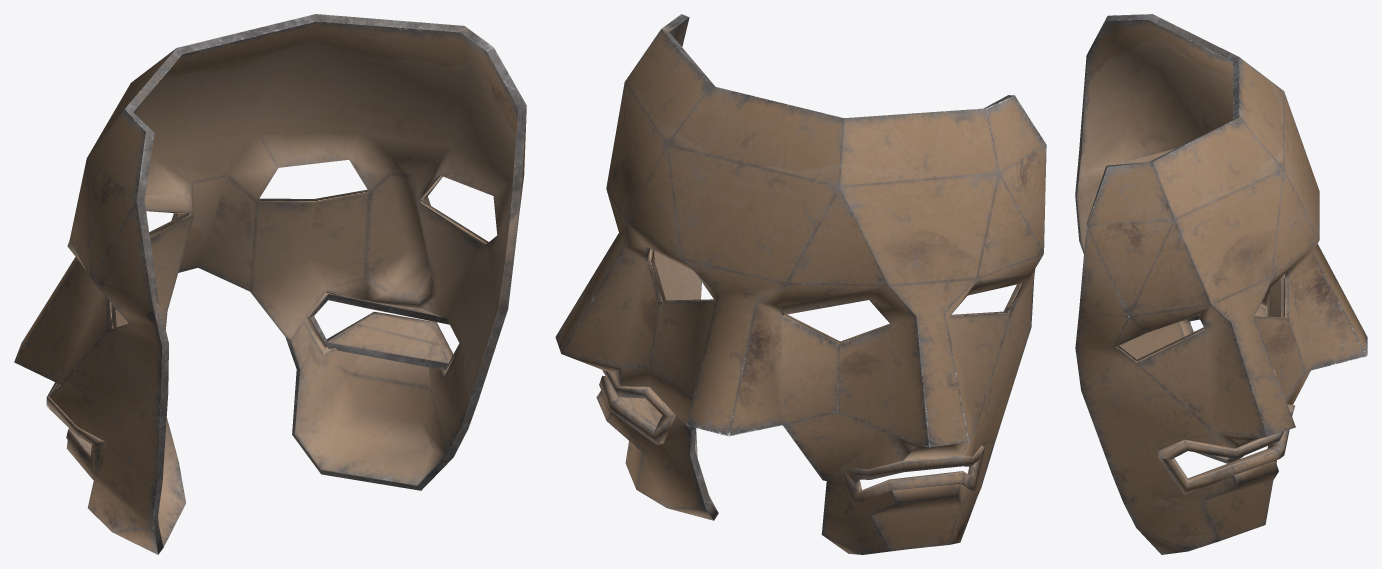
The model's file is threeFaceMask.gltf.
The picture shows the model from 3 angles, left to right: view 1: azimuth 30°, elevation 25°; view 2: azimuth 150°, elevation 25°; view 3: azimuth 270°, elevation 25°; orthographic projection. The views are drawn at different scales.
Visible parts, largest first — view 1: threeFaceMask; view 2: threeFaceMask; view 3: threeFaceMask.
Boxes of the visible parts, left/top/right/bottom form: threeFaceMask: left=14, top=14, right=526, bottom=554; threeFaceMask: left=555, top=14, right=1046, bottom=554; threeFaceMask: left=1075, top=14, right=1367, bottom=554.
Bounding box in the file's own units: 1.04 × 1.06 × 0.6828.
1 material, 1 textured.
